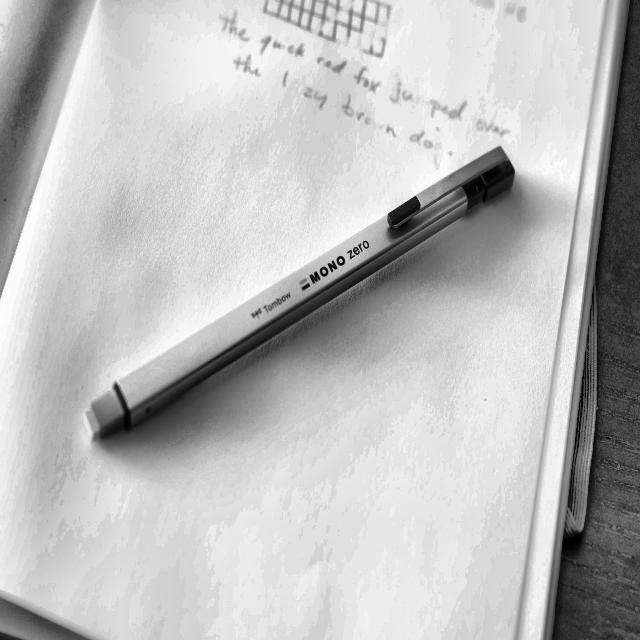Notebook: (3, 7, 614, 620)
Pen: (70, 143, 512, 443)
